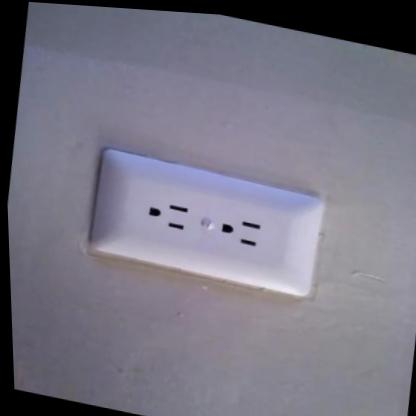OUTLET: (84, 145, 326, 297)
